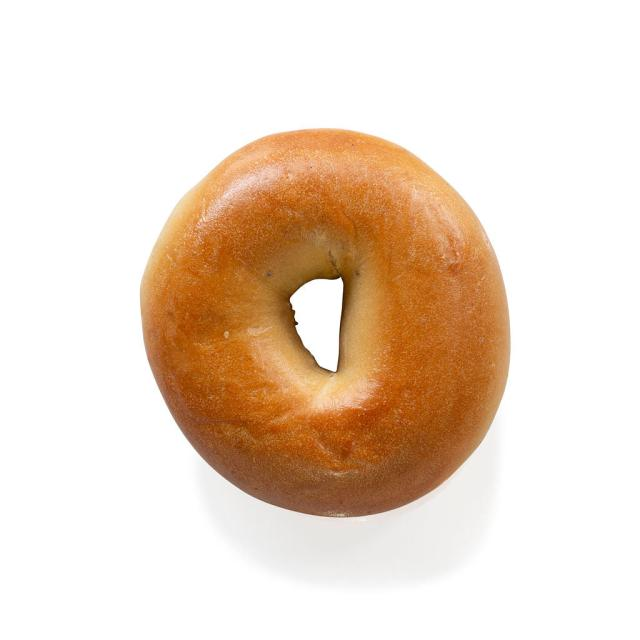Bagel: (141, 130, 509, 516)
